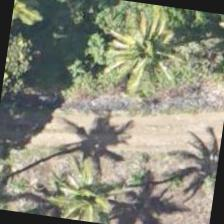Kelapa_Sawit: (99, 0, 201, 99), (39, 146, 140, 223)
